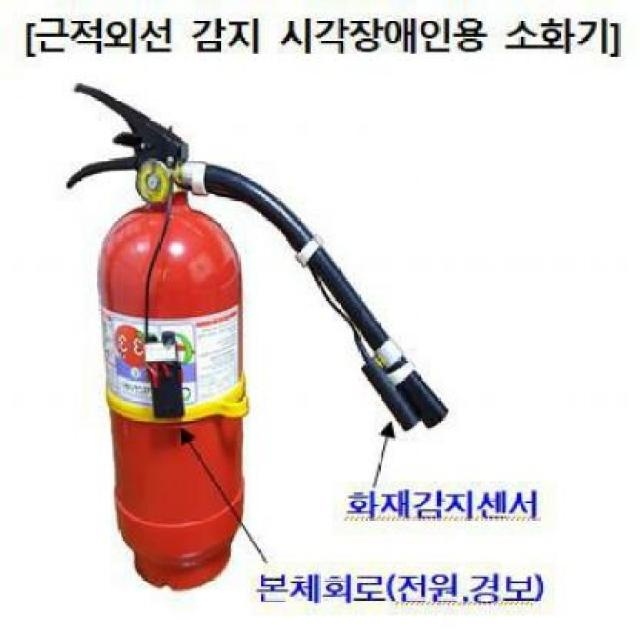fire extinguisher: (66, 82, 449, 593)
